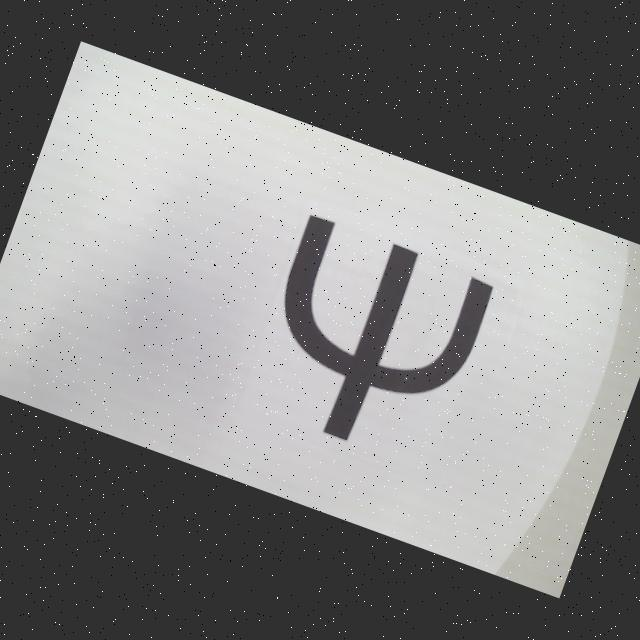PSI: (241, 213, 498, 471)
